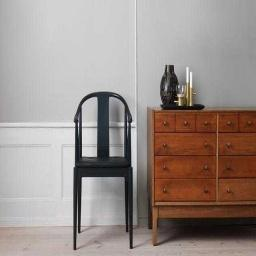Chair: (74, 91, 132, 252)
